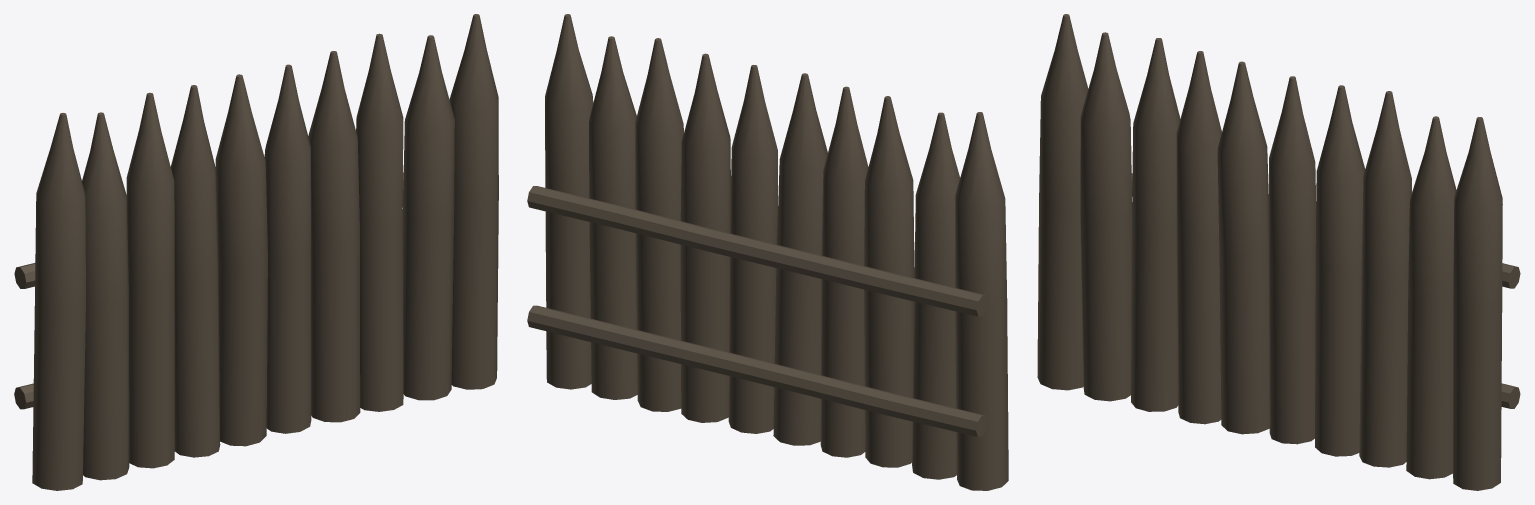
The model's file is bruestung_holz_15_2m.glb.
3 views of the same model, side by side, from view 1: azimuth 30°, elevation 25°; view 2: azimuth 150°, elevation 25°; view 3: azimuth 330°, elevation 25° (orthographic).
Parts seen in each view (by area): view 1: bruestung_holz_15_2m; view 2: bruestung_holz_15_2m; view 3: bruestung_holz_15_2m.
Part boxes in pixels (bbox=[...]): bruestung_holz_15_2m: bbox=[14, 14, 498, 490]; bruestung_holz_15_2m: bbox=[527, 14, 1008, 490]; bruestung_holz_15_2m: bbox=[1037, 14, 1520, 490].
Size of the model in its own units: 2 by 1.53 by 0.2982.
